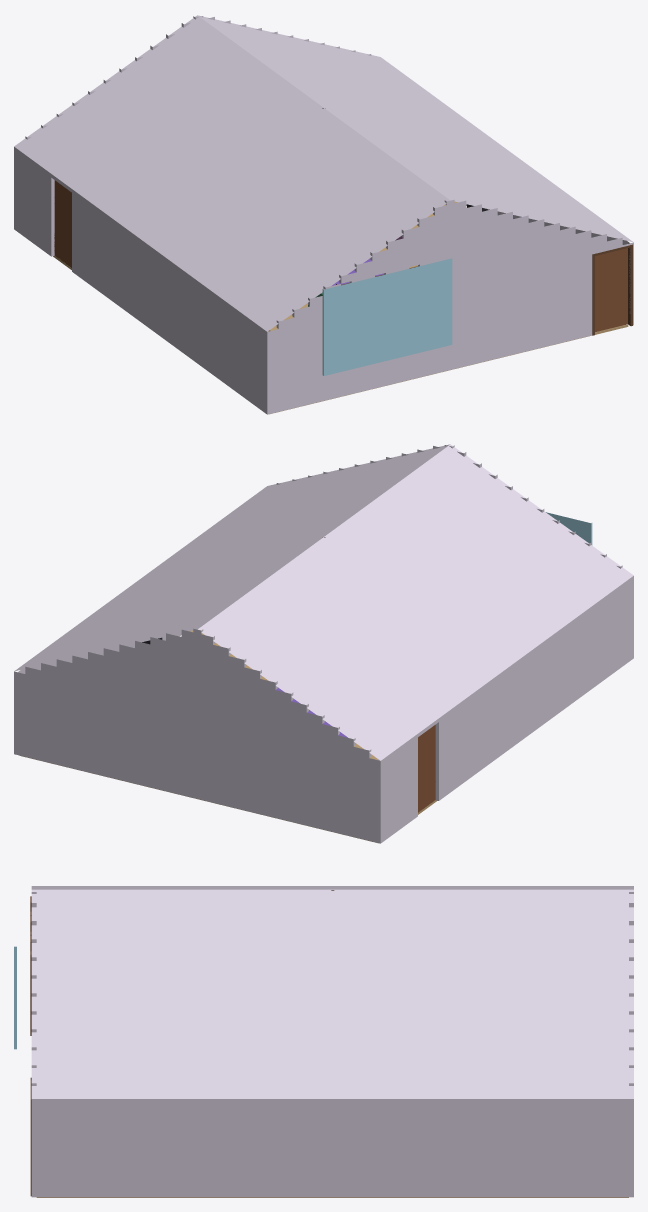
The model's file is room_game.glb.
3 views of the same model, one above another, from view 1: azimuth 30°, elevation 25°; view 2: azimuth 150°, elevation 25°; view 3: azimuth 270°, elevation 25° (orthographic). The views are drawn at different scales.
Parts seen in each view (by area): view 1: CEILING, WALLS, VIEW_window_N, DOOR_stairs_down, DOOR_corridor, FRAMES; view 2: CEILING, WALLS, DOOR_corridor, VIEW_window_N; view 3: CEILING, WALLS, FLOOR_visible, FRAMES.
Boxes of the visible parts, x1=… form: CEILING: x1=14, y1=15, x2=633, y2=331; WALLS: x1=14, y1=16, x2=633, y2=414; VIEW_window_N: x1=322, y1=258, x2=452, y2=375; DOOR_stairs_down: x1=595, y1=248, x2=627, y2=332; DOOR_corridor: x1=54, y1=180, x2=71, y2=267; FRAMES: x1=54, y1=235, x2=632, y2=335; CEILING: x1=14, y1=444, x2=633, y2=760; WALLS: x1=14, y1=445, x2=633, y2=843; DOOR_corridor: x1=418, y1=725, x2=435, y2=812; VIEW_window_N: x1=546, y1=512, x2=592, y2=545; CEILING: x1=31, y1=886, x2=633, y2=1098; WALLS: x1=31, y1=892, x2=633, y2=1197; FLOOR_visible: x1=36, y1=1197, x2=628, y2=1197; FRAMES: x1=30, y1=896, x2=31, y2=1196.
Bounding box in the file's own units: 10.2 × 4.56 × 12.56.
